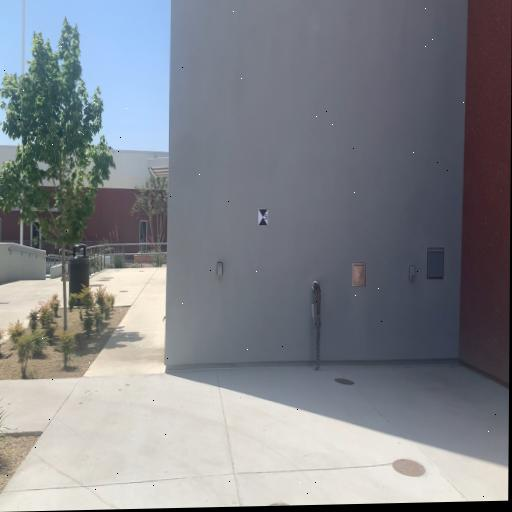target5: (258, 208, 269, 227)
